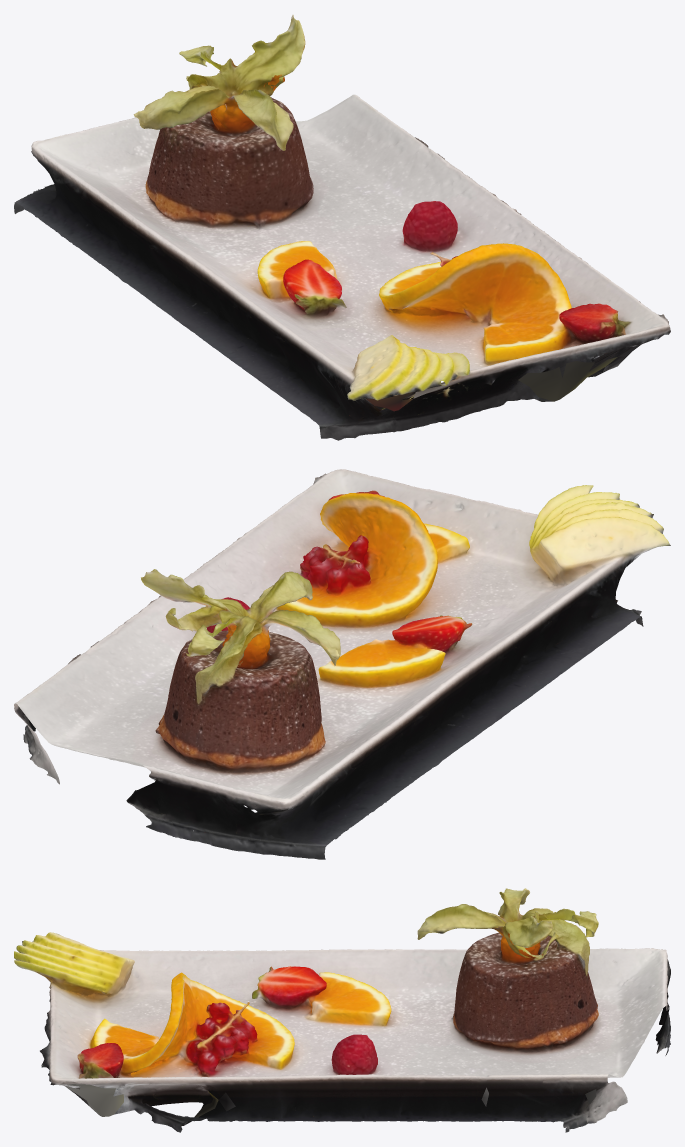
File: objet (3).glb
3 views of the same model, one above another, from view 1: azimuth 30°, elevation 25°; view 2: azimuth 150°, elevation 25°; view 3: azimuth 270°, elevation 25° (orthographic). The views are drawn at different scales.
Visible parts, largest first — view 1: Mesh_0_Part_0; view 2: Mesh_0_Part_0; view 3: Mesh_0_Part_0.
Part boxes in pixels (bbox=[...]): Mesh_0_Part_0: bbox=[14, 15, 670, 440]; Mesh_0_Part_0: bbox=[14, 469, 670, 859]; Mesh_0_Part_0: bbox=[14, 888, 670, 1132].
Bounding box in the file's own units: 0.2297 × 0.1202 × 0.4377.
Materials: 1 (1 with a texture image).
